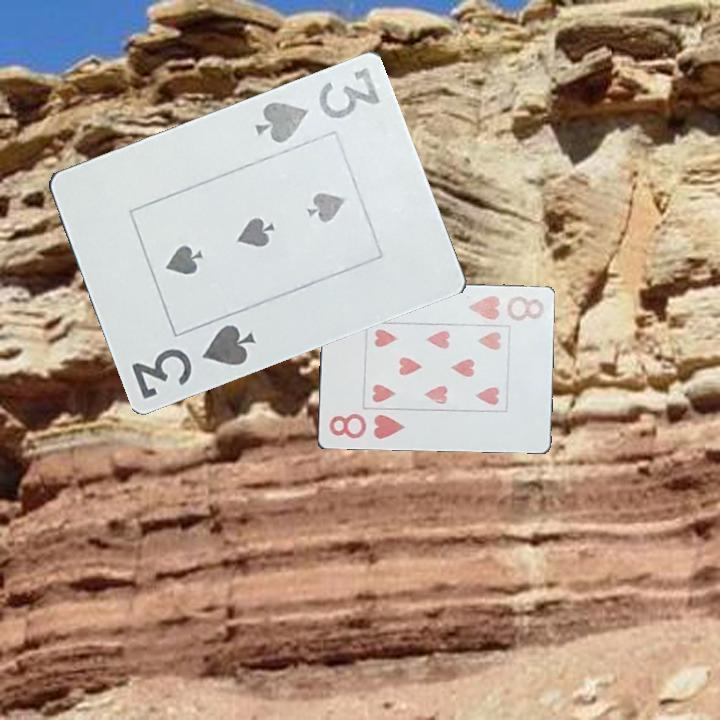3s: (251, 63, 383, 146), (128, 320, 260, 401)
8h: (325, 410, 407, 442), (465, 292, 547, 324)
